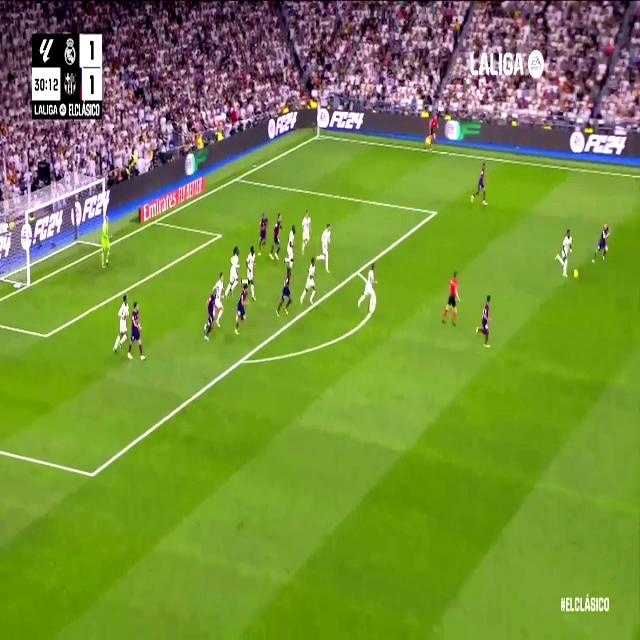bigarea_bottom_inner: (86, 459, 99, 489)
bigarea_top_inner: (429, 202, 438, 223)
bigarea_top_outter: (233, 170, 241, 186)
bottom_arc_area_intersection: (236, 348, 248, 371)
corner: (313, 129, 323, 141)
smallarea_bottom_inner: (42, 324, 51, 346)
smallarea_top_inner: (214, 225, 224, 244)
top_arc_area_intersection: (354, 261, 362, 280)
